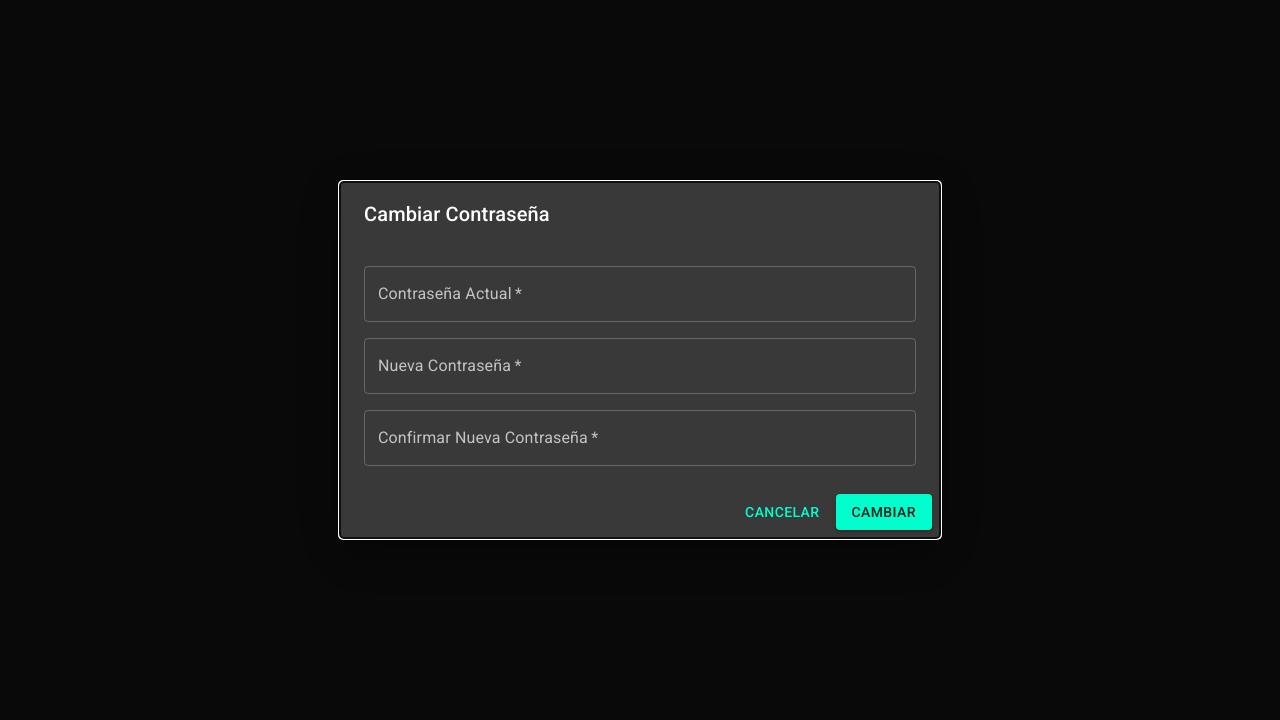
ChangePasswordDialog › shows error if passwords do not match
Type "oldpass" into the password field labelled "Contraseña Actual *" at {"x": 640, "y": 294}, box [364,266,916,322]
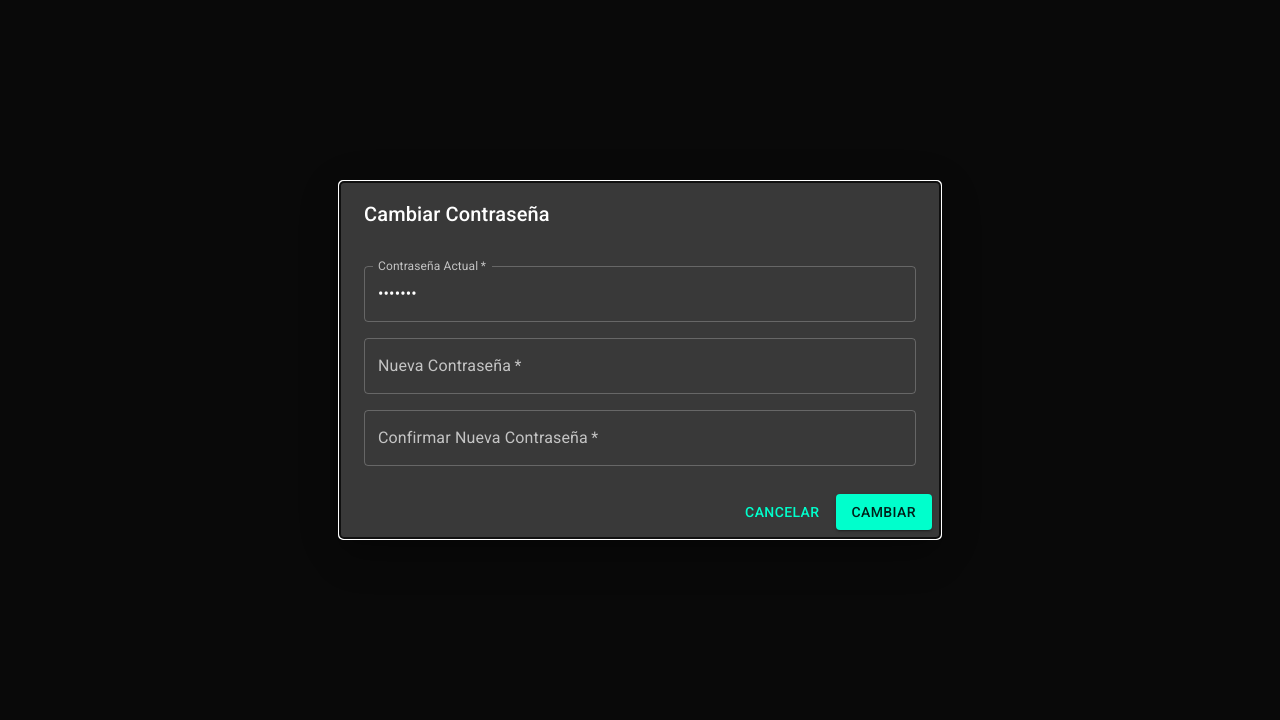
Usamos ^ para indicar que el texto debe EMPEZAR con "Nueva Contraseña"
Type "newpass1" into the password field labelled "Nueva Contraseña *" at {"x": 640, "y": 366}, box [364,338,916,394]
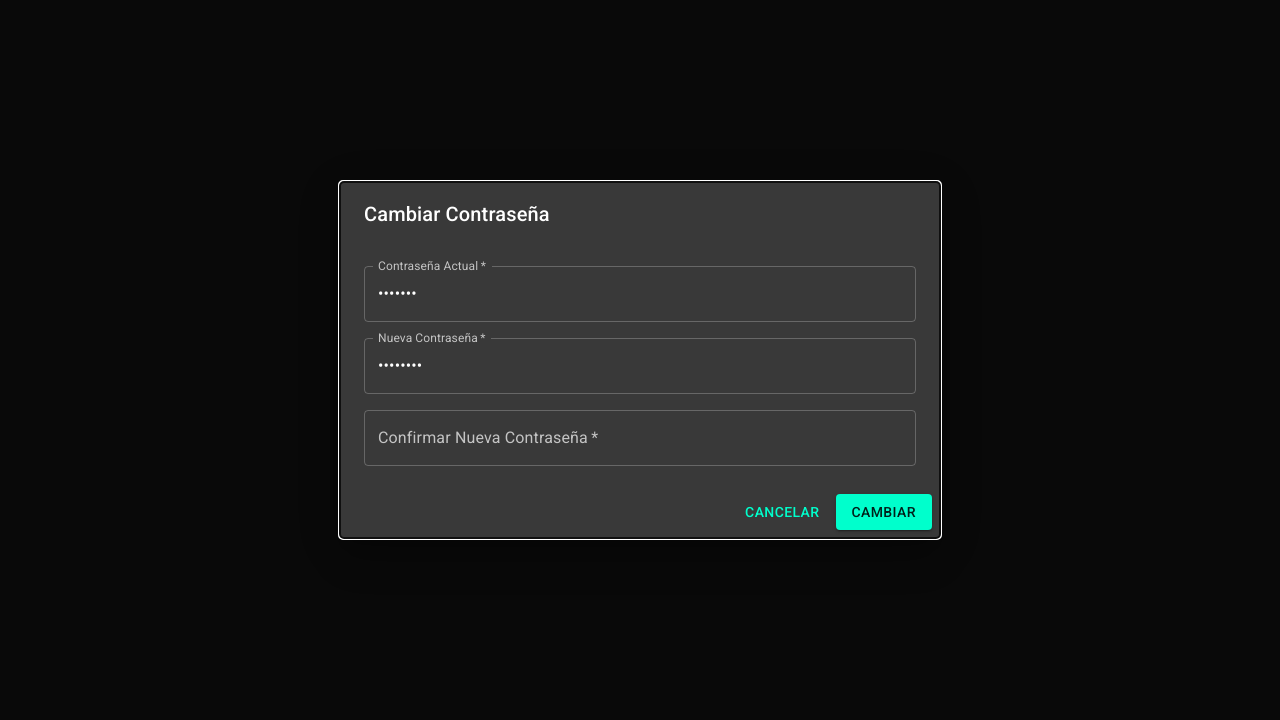
Type "newpass2" into the password field labelled "Confirmar Nueva Contraseña *" at {"x": 640, "y": 438}, box [364,410,916,466]
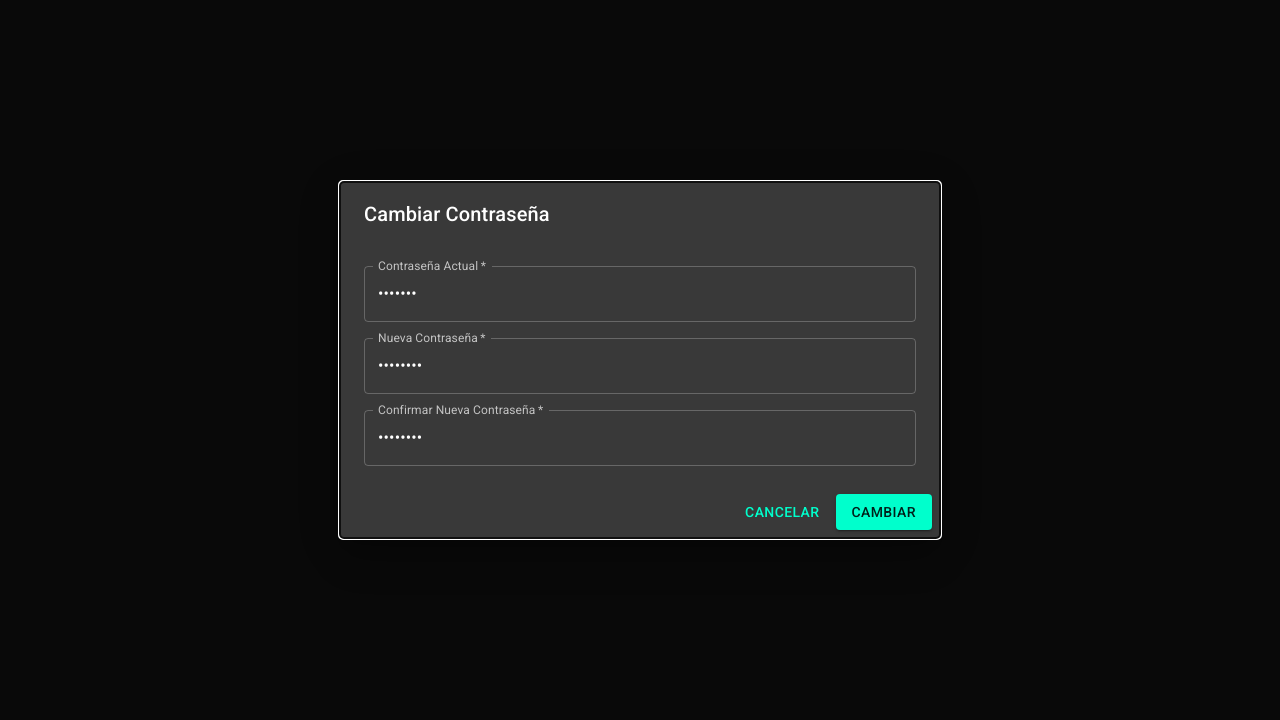
Click the button "Cambiar" at {"x": 884, "y": 512}, box [836,494,932,530]
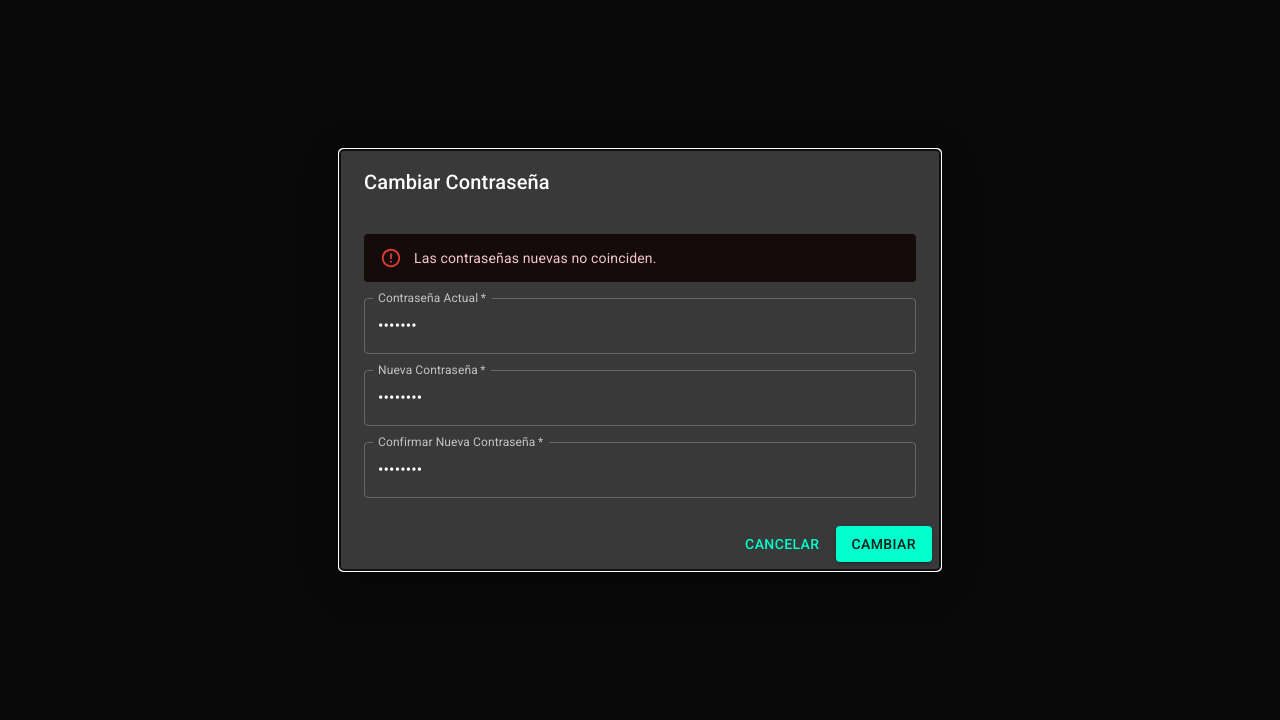
expect the text "Las contraseñas nuevas no coinciden." is shown: met, box [414,250,656,266]
